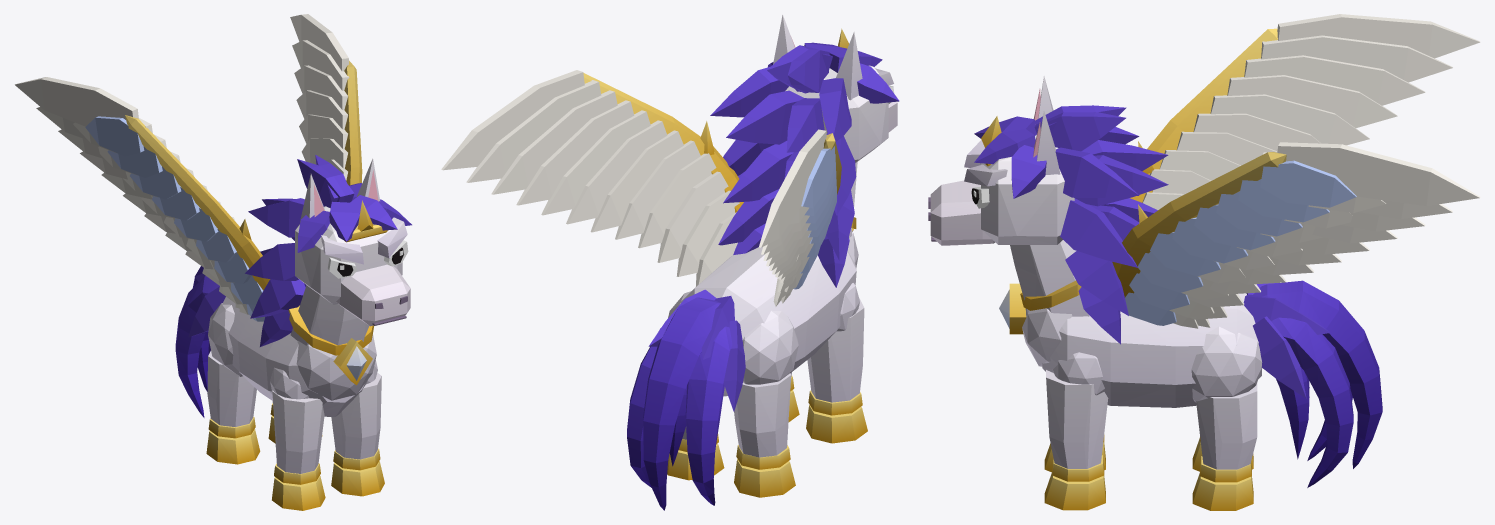
The model's file is star_pegasus.glb.
3 views of the same model, side by side, from view 1: azimuth 30°, elevation 25°; view 2: azimuth 150°, elevation 25°; view 3: azimuth 270°, elevation 25° (orthographic). The views are drawn at different scales.
Visible parts, largest first — view 1: star_pegasus; view 2: star_pegasus; view 3: star_pegasus.
Boxes of the visible parts, x1=… form: star_pegasus: x1=15, y1=14, x2=411, y2=510; star_pegasus: x1=441, y1=14, x2=899, y2=510; star_pegasus: x1=928, y1=14, x2=1480, y2=510.
Bounding box in the file's own units: 1.03 × 1.23 × 1.53.
Materials: 1 (1 with a texture image).
